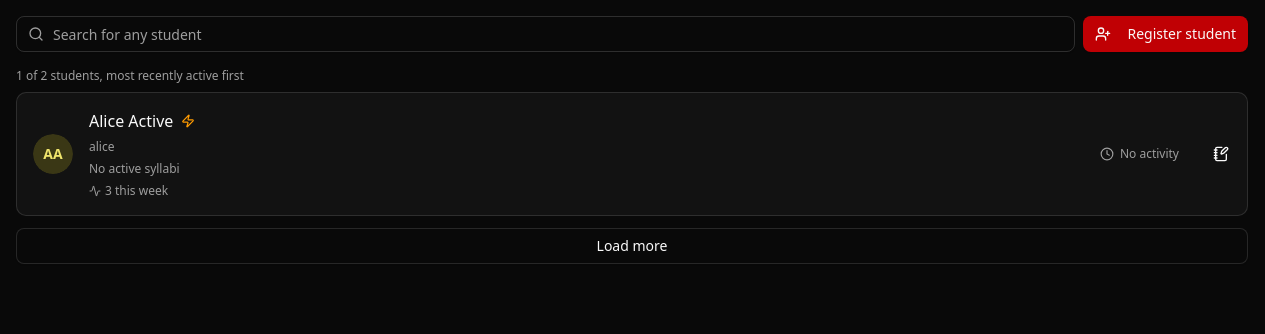
StudentsListPage › Load more appends the next page
Expected: the text "Alice Active" is shown, [89,109,173,133]
What coordinates should you click on to do the following:
click the button "Load more"
I would click on:
 (632, 246)
Its box is [16,228,1248,264].
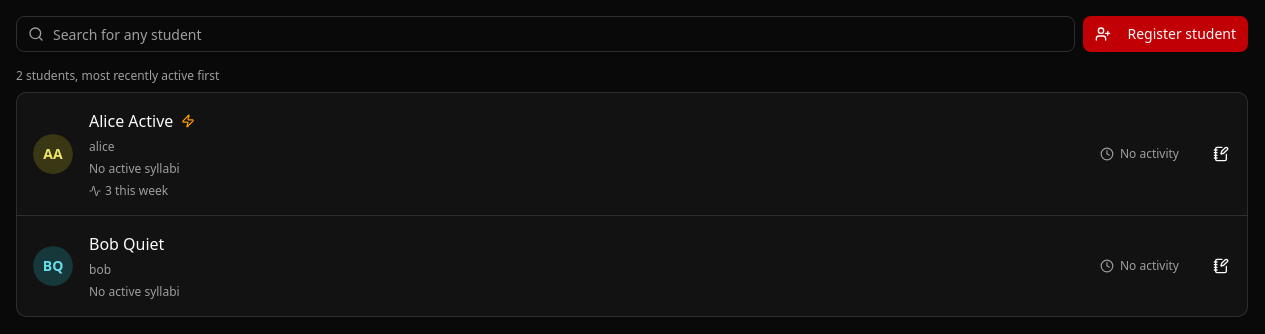
Expected: the text "Alice Active" is shown, [89,109,173,133]
Expected: the text "Bob Quiet" is shown, [89,232,164,256]
